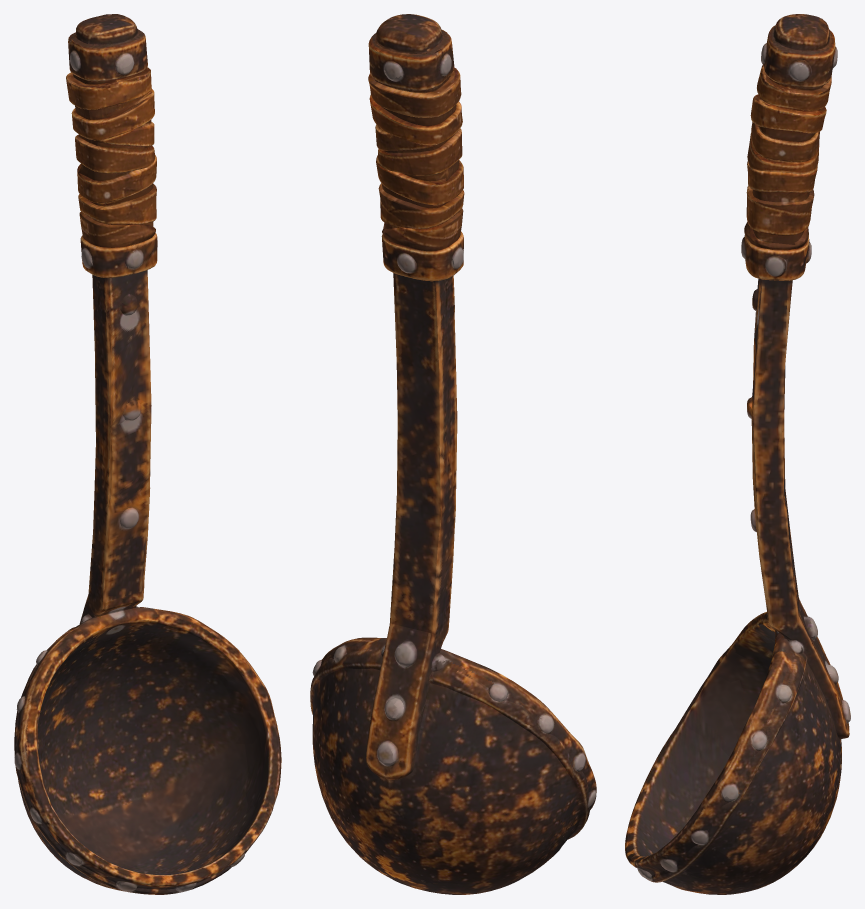
File: ladle.glb
The picture shows the model from 3 angles, left to right: view 1: azimuth 30°, elevation 25°; view 2: azimuth 150°, elevation 25°; view 3: azimuth 270°, elevation 25°; orthographic projection. The views are drawn at different scales.
Visible parts, largest first — view 1: Mesh_0; view 2: Mesh_0; view 3: Mesh_0.
Boxes of the visible parts, left/top/right/bottom form: Mesh_0: left=14, top=14, right=281, bottom=894; Mesh_0: left=310, top=14, right=596, bottom=894; Mesh_0: left=625, top=14, right=850, bottom=894.
Bounding box in the file's own units: 0.6043 × 1.9 × 0.4534.
1 material, 1 textured.
